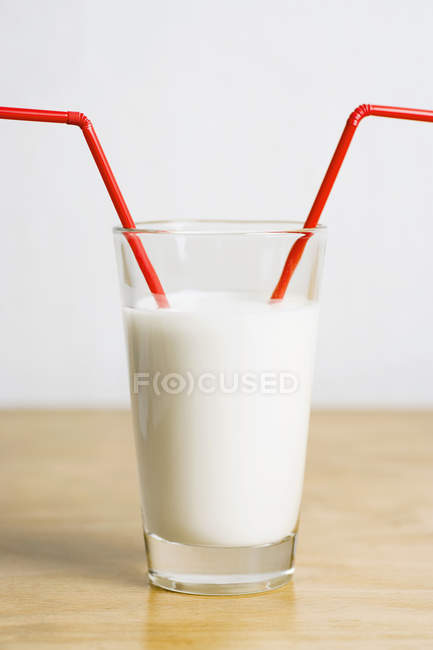glass of milk: (136, 244, 294, 579)
